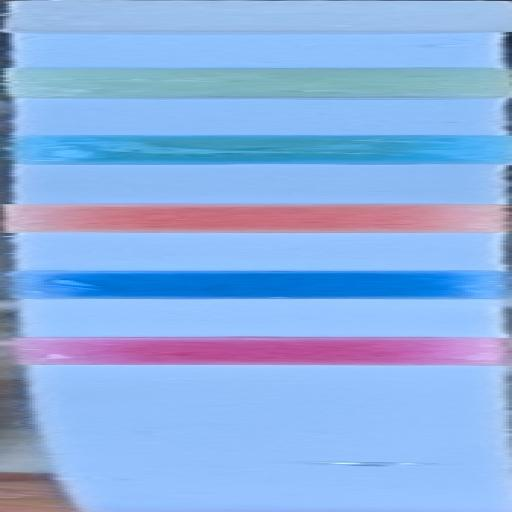pads: (0, 0, 512, 34), (0, 66, 512, 100), (0, 201, 512, 235), (14, 133, 512, 165), (0, 269, 512, 298), (29, 336, 512, 365)
